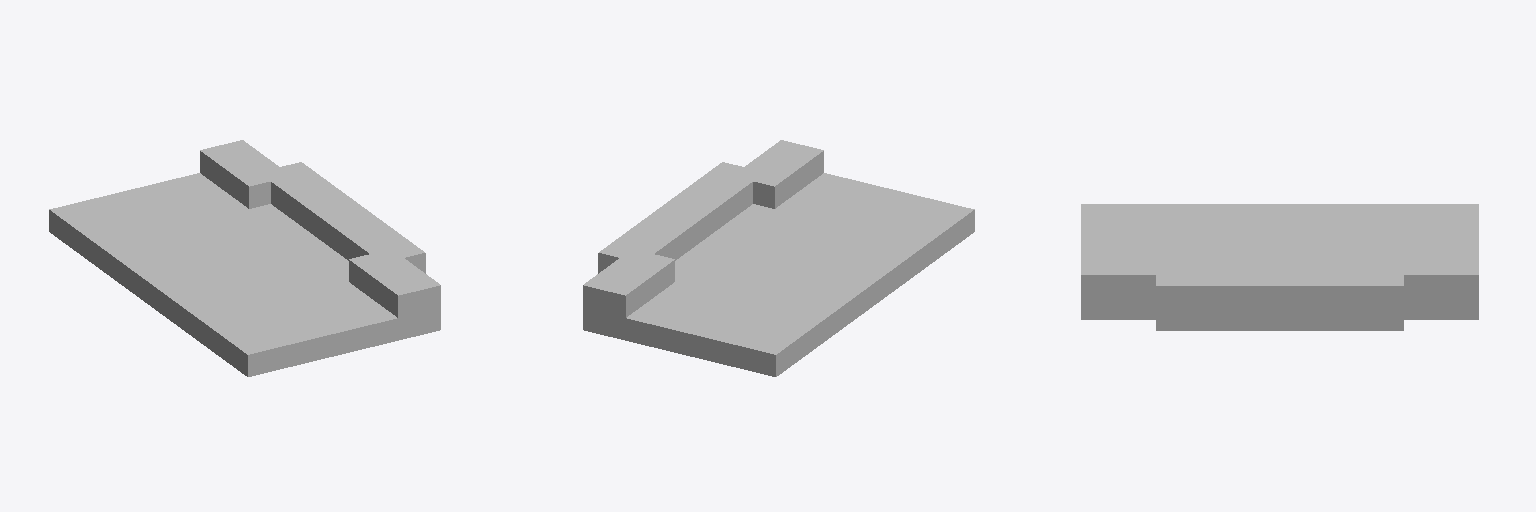
Rendered from 3D Voxel Park-10.obj.
3 renders of one model, left to right at view 1: azimuth 30°, elevation 25°; view 2: azimuth 150°, elevation 25°; view 3: azimuth 270°, elevation 25°, orthographic.
Visible parts, largest first — view 1: object 1; view 2: object 1; view 3: object 1.
Boxes of the visible parts, box(x1,y1,x2,y2) form: object 1: box(49, 140, 440, 376); object 1: box(583, 140, 974, 376); object 1: box(1081, 204, 1478, 330).
Bounding box in the file's own units: 1 × 0.2 × 1.6.